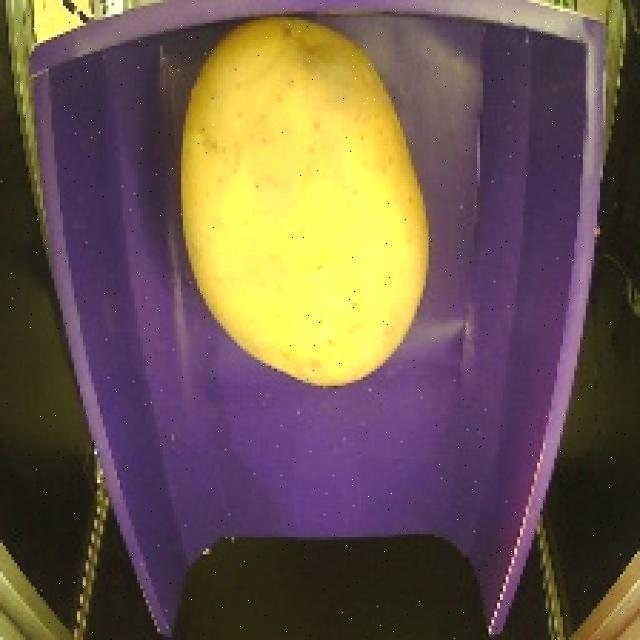full_potato: (168, 8, 442, 399)
